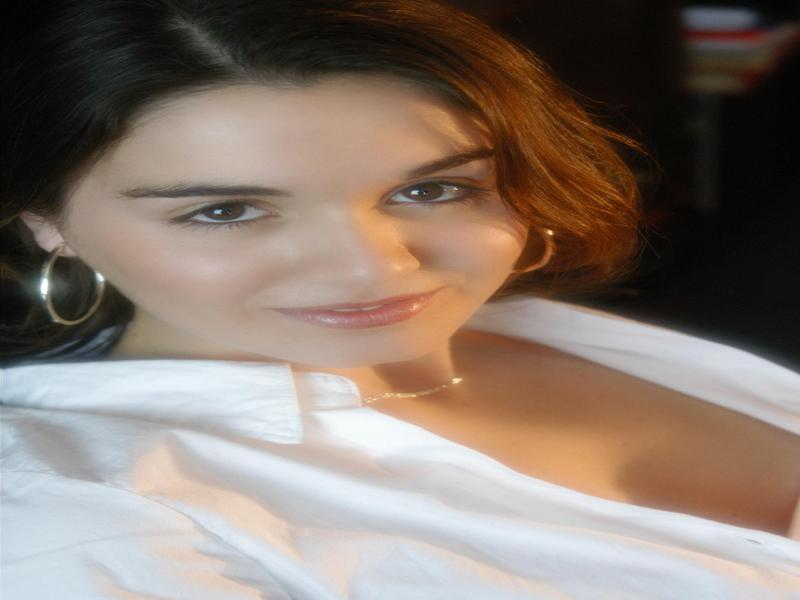person: (8, 7, 800, 591)
